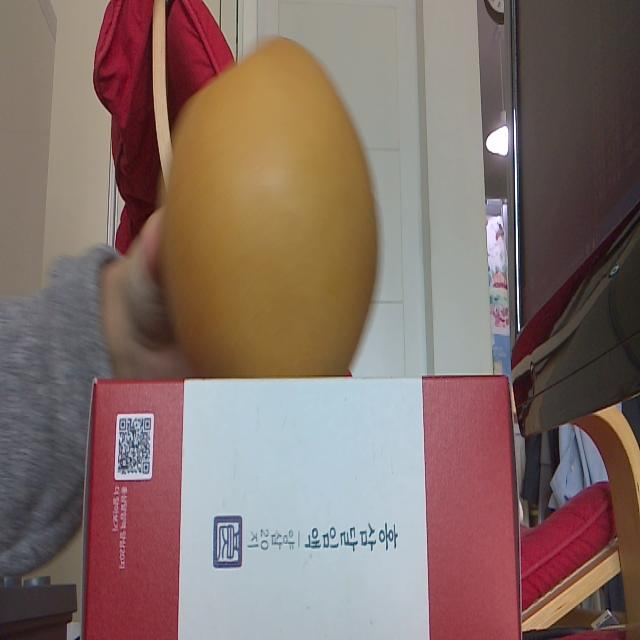pear: (164, 41, 378, 376)
